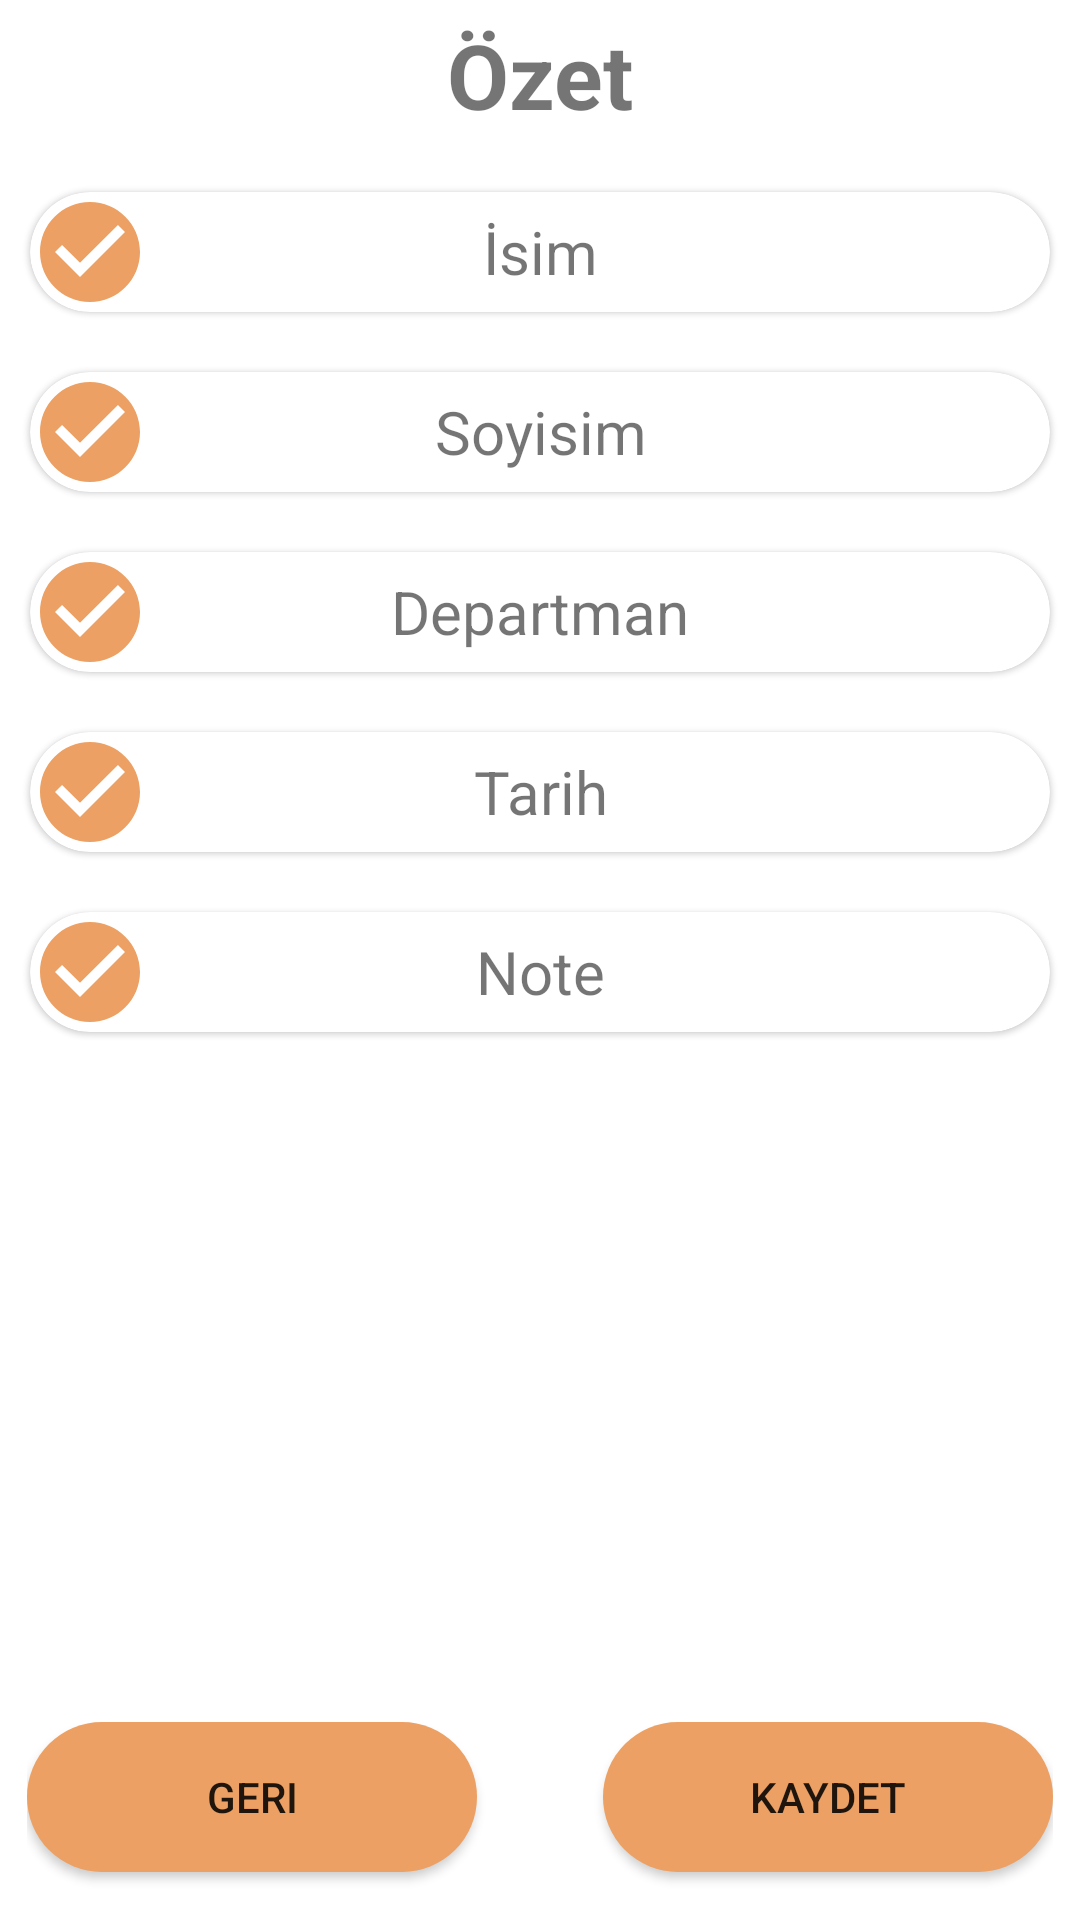

Named icons in this screenshot (1080w x 1920h) and their centers, (x,y):
check circle: (85,255), (87,432), (85,612), (85,792), (85,972)
